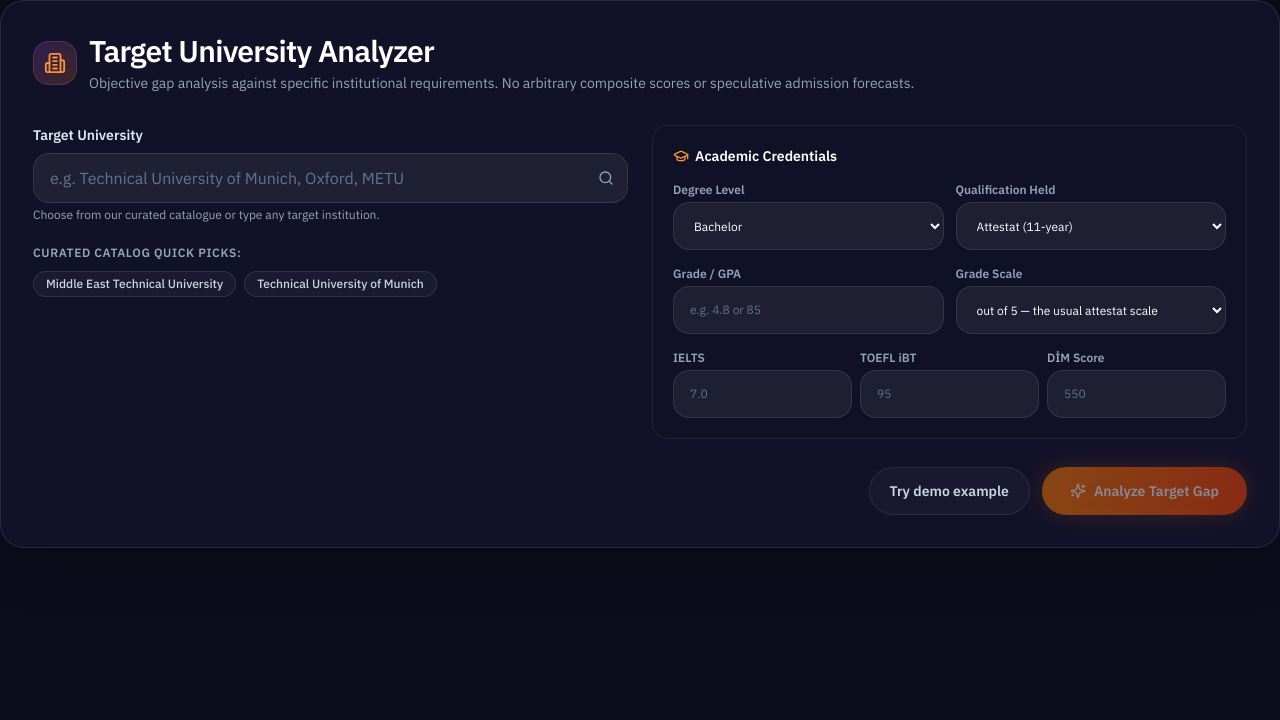
Scenario: TargetAnalyzer Component › moves the default qualification with the level, as before
Check: the dropdown labelled "Qualification Held" shows "Attestat (11-year)", box left=956, top=202, right=1226, bottom=250
Select "Master" in the dropdown labelled "Degree Level": [808, 226] box left=673, top=202, right=944, bottom=250
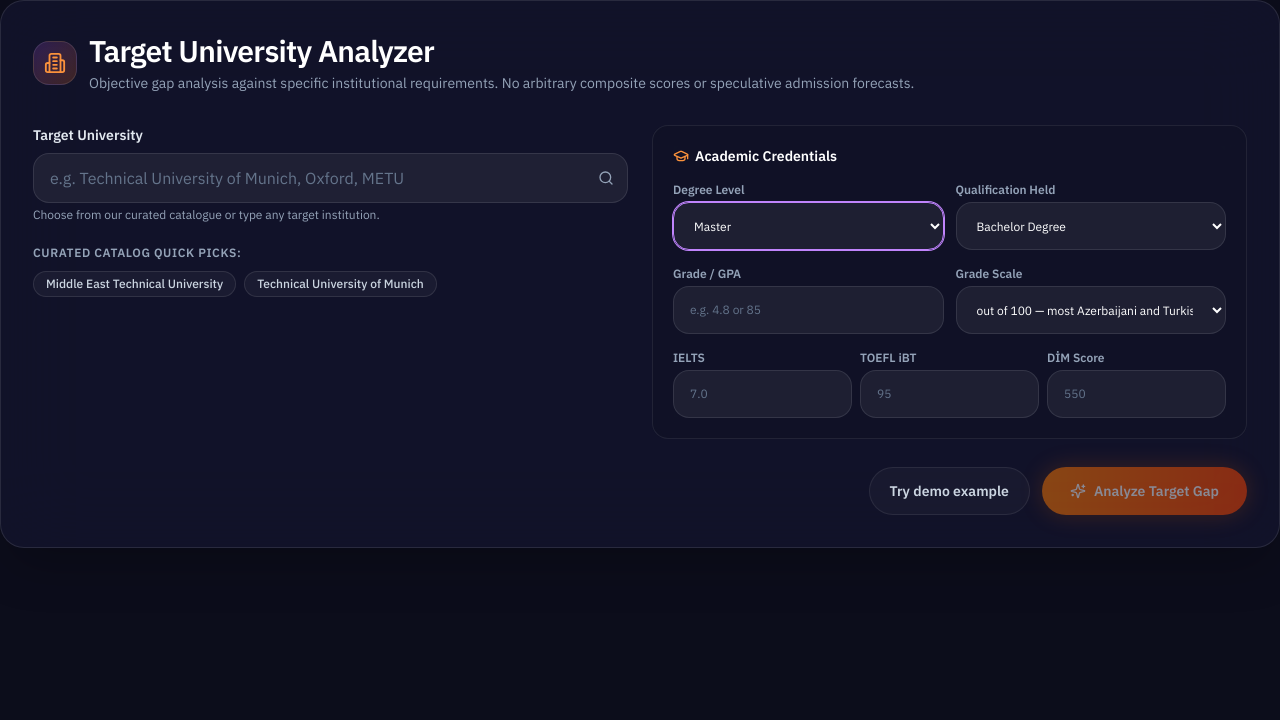
Check: the dropdown labelled "Qualification Held" shows "Bachelor Degree", box left=956, top=202, right=1226, bottom=250
Select "Bachelor" in the dropdown labelled "Degree Level": [808, 226] box left=673, top=202, right=944, bottom=250
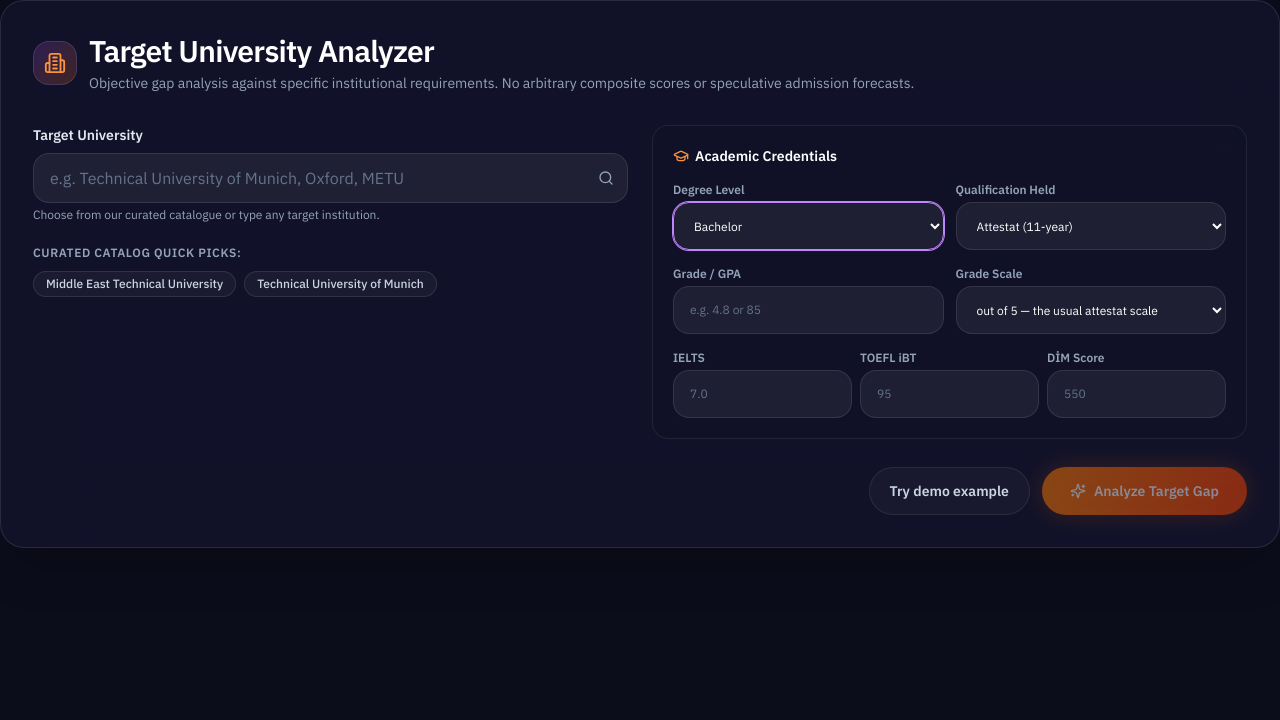
Check: the dropdown labelled "Qualification Held" shows "Attestat (11-year)", box left=956, top=202, right=1226, bottom=250
